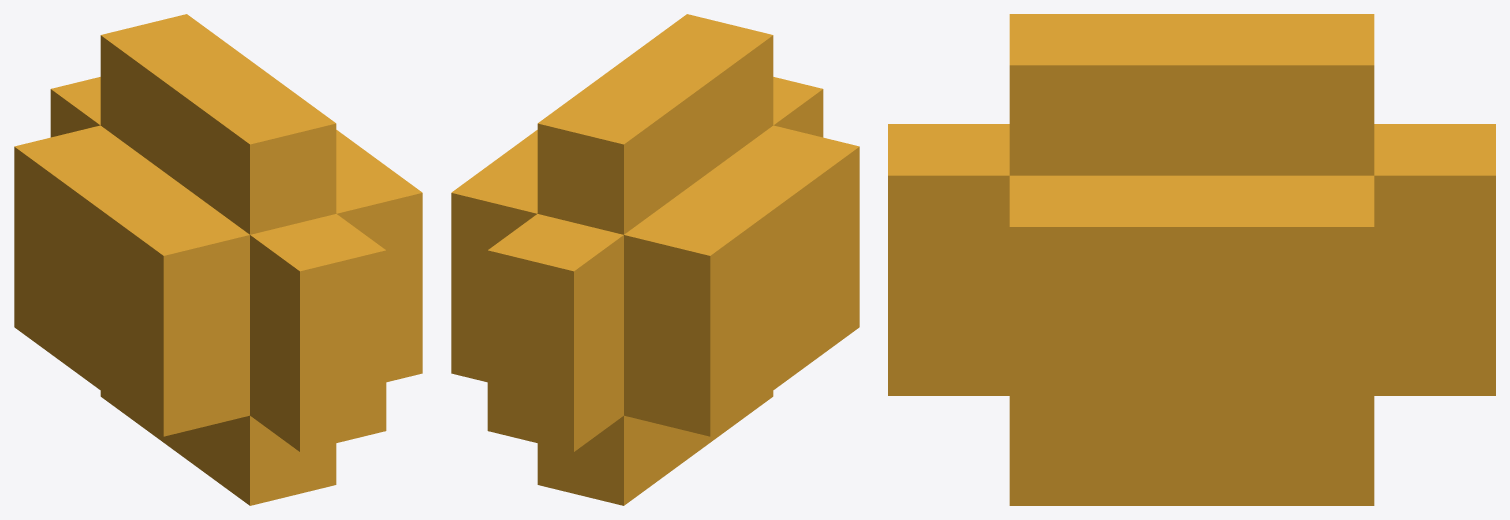
Rendered from chick__wing_l.glb.
3 renders of one model, left to right at view 1: azimuth 30°, elevation 25°; view 2: azimuth 150°, elevation 25°; view 3: azimuth 270°, elevation 25°, orthographic. The views are drawn at different scales.
Parts seen in each view (by area): view 1: chick__wing_l; view 2: chick__wing_l; view 3: chick__wing_l.
Part boxes in pixels (left/top/right/bottom): chick__wing_l: left=14, top=14, right=422, bottom=505; chick__wing_l: left=451, top=14, right=859, bottom=505; chick__wing_l: left=888, top=14, right=1495, bottom=505.
Size of the model in its own units: 0.3 by 0.4 by 0.5.
1 material, 1 textured.
